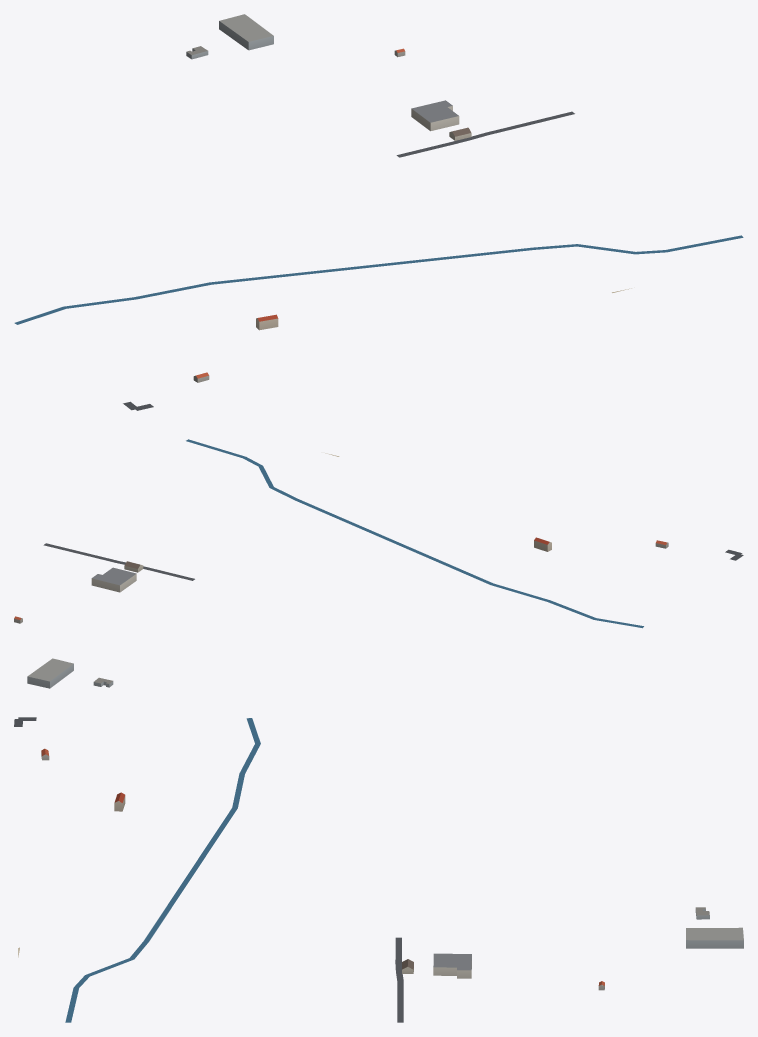
The picture shows the model from 3 angles, top to bottom: view 1: azimuth 30°, elevation 25°; view 2: azimuth 150°, elevation 25°; view 3: azimuth 270°, elevation 25°; orthographic projection. The views are drawn at different scales.
Parts seen in each view (by area): view 1: water, buildings_roofs, buildings_walls, roads; view 2: water, buildings_roofs, buildings_walls, roads; view 3: water, buildings_roofs, buildings_walls, roads.
Boxes of the visible parts, x1,y1,x2,y2 form: water: (14, 235, 743, 324); buildings_roofs: (187, 14, 471, 378); buildings_walls: (186, 21, 471, 382); roads: (123, 111, 574, 410); water: (186, 439, 643, 628); buildings_roofs: (14, 537, 666, 683); buildings_walls: (14, 540, 668, 688); roads: (43, 543, 743, 580); water: (65, 718, 260, 1022); buildings_roofs: (41, 748, 743, 985); buildings_walls: (41, 752, 743, 990); roads: (14, 717, 403, 1022).
Size of the model in its own units: 502 by 8.06 by 507.
